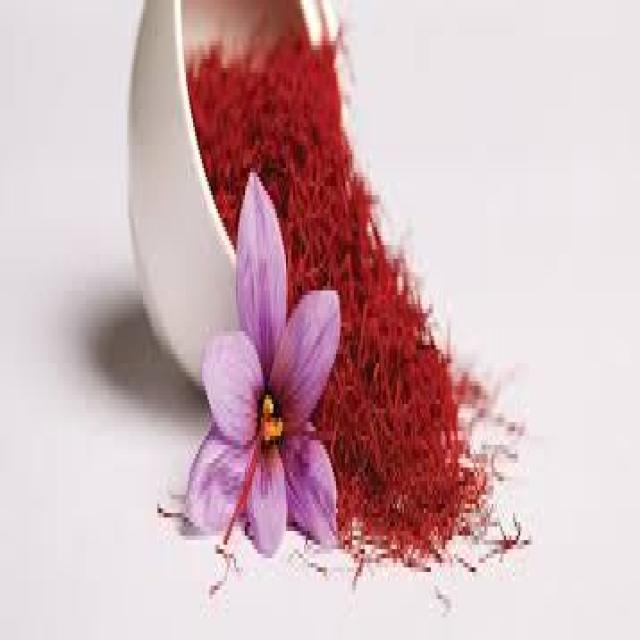Flower: (181, 180, 346, 560)
stigma: (222, 441, 262, 539)
